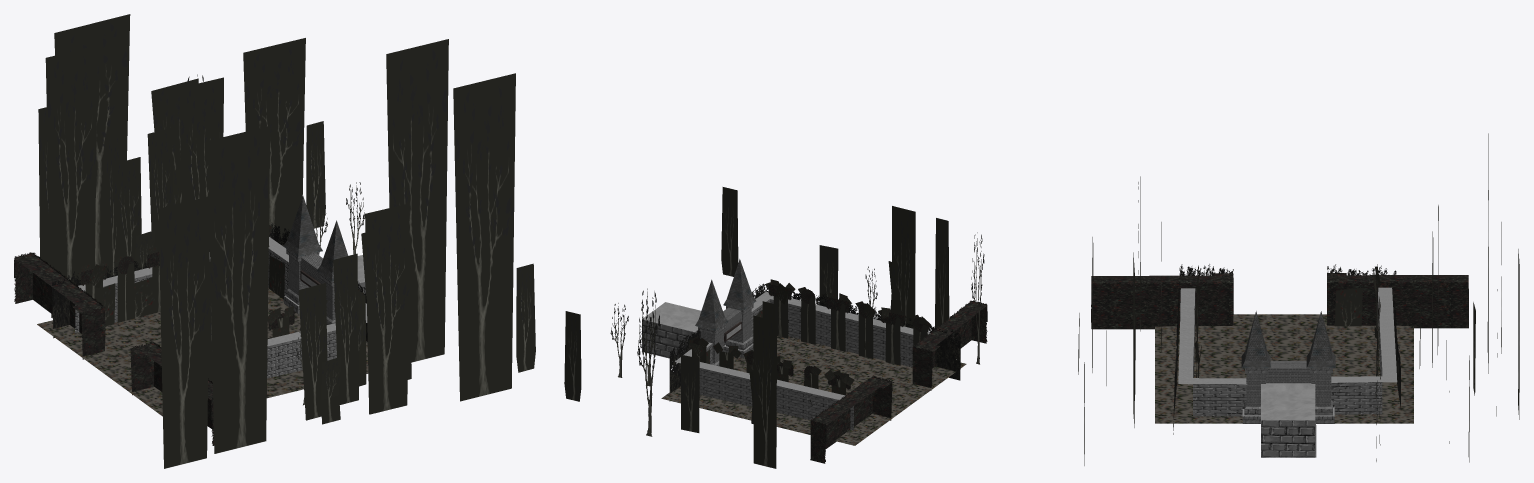
File: cgc_kart_boarding_room.fbx
The picture shows the model from 3 angles, left to right: view 1: azimuth 30°, elevation 25°; view 2: azimuth 150°, elevation 25°; view 3: azimuth 270°, elevation 25°; orthographic projection. The views are drawn at different scales.
Visible parts, largest first — view 1: pPlane392, pPlane50, pPlane394, pPlane393, pPlane271, pPlane397, pPlane269, pPlane274, ground, pPlane308, polySurface37, pPlane398 (+21 smaller); view 2: ground, polySurface34, pPlane310, polySurface37, polySurface35, polySurface36, pPlane395, closebushes, rooftower_6, pPlane401, pPlane304, pPlane306 (+12 smaller); view 3: ground, polySurface36, polySurface37, polySurface35, polySurface34, rooftower_6, pCube138, pCube137, rooftower_7, closebushes, pPlane387.
Boxes of the visible parts, box(x1,y1,x2,y2) form: pPlane392: box(453, 73, 515, 401); pPlane50: box(207, 126, 270, 453); pPlane394: box(386, 39, 448, 362); pPlane393: box(158, 196, 209, 468); pPlane271: box(45, 45, 97, 317); pPlane397: box(365, 203, 409, 414); pPlane269: box(243, 38, 305, 245); pPlane274: box(54, 14, 130, 265); ground: box(37, 287, 368, 416); pPlane308: box(179, 77, 223, 251); polySurface37: box(14, 252, 105, 359); pPlane398: box(333, 253, 358, 404); ground: box(661, 336, 966, 445); polySurface34: box(675, 342, 853, 430); pPlane310: box(753, 315, 776, 468); polySurface37: box(810, 375, 892, 463); polySurface35: box(751, 292, 930, 367); polySurface36: box(912, 300, 987, 390); pPlane395: box(892, 206, 915, 328); closebushes: box(669, 283, 960, 401); rooftower_6: box(695, 279, 741, 366); pPlane401: box(935, 218, 949, 327); pPlane304: box(564, 311, 581, 401); pPlane306: box(681, 355, 699, 432); ground: box(1155, 314, 1413, 423); polySurface36: box(1091, 273, 1233, 329); polySurface37: box(1327, 273, 1468, 328); polySurface35: box(1178, 288, 1247, 416); polySurface34: box(1331, 287, 1397, 414); rooftower_6: box(1266, 311, 1335, 415); pCube138: box(1261, 383, 1315, 420); pCube137: box(1261, 420, 1314, 457); rooftower_7: box(1241, 311, 1270, 415); closebushes: box(1173, 264, 1400, 434); pPlane387: box(1334, 288, 1362, 326).
Size of what is drawn, in the model's own units: 125 by 103 by 135.
